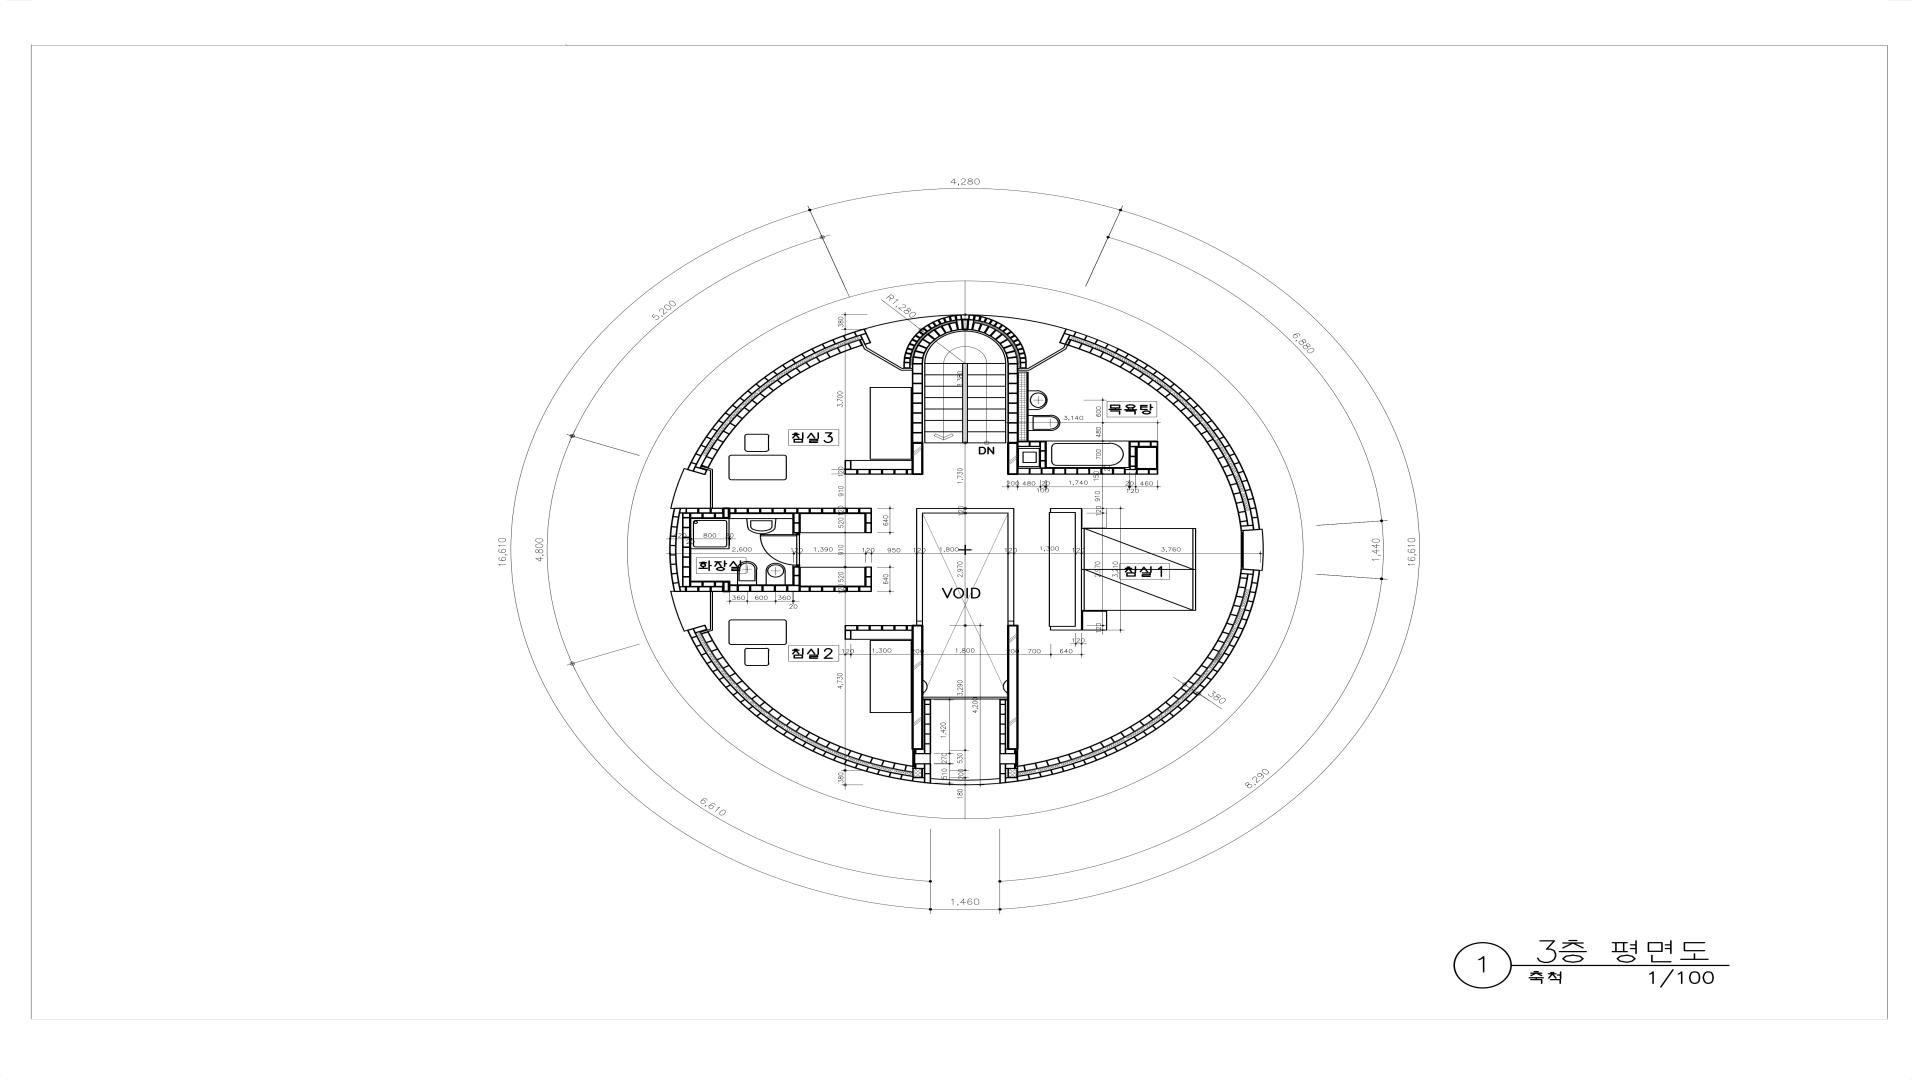door: (760, 533, 800, 567)
wall: (1000, 568, 1261, 783), (1059, 328, 1259, 531), (686, 625, 931, 783), (687, 328, 872, 475), (903, 314, 1027, 368), (911, 625, 923, 750), (1007, 625, 1018, 750), (670, 520, 691, 580), (911, 368, 923, 475), (1000, 700, 1018, 764), (913, 700, 931, 764), (1007, 368, 1018, 475), (1018, 467, 1138, 475), (731, 508, 872, 514), (1075, 513, 1083, 630), (916, 508, 923, 625), (1007, 513, 1014, 625), (731, 584, 800, 592), (671, 580, 713, 592), (671, 508, 713, 520), (923, 508, 1014, 513), (800, 585, 872, 592), (844, 625, 911, 632), (844, 469, 911, 475), (1129, 440, 1158, 448), (1039, 440, 1047, 467), (713, 580, 731, 592), (713, 508, 731, 520), (1050, 508, 1083, 513), (1129, 448, 1138, 467), (864, 567, 872, 585), (864, 514, 872, 533), (793, 514, 800, 533), (1018, 440, 1039, 447), (793, 567, 800, 584), (1138, 468, 1158, 475), (1050, 626, 1075, 630), (844, 460, 852, 469), (844, 632, 852, 640)
window: (862, 344, 902, 371), (1029, 345, 1067, 371), (1241, 530, 1265, 570), (931, 778, 1000, 786), (923, 696, 1007, 699), (708, 592, 713, 632), (708, 468, 713, 508), (1018, 368, 1029, 371), (902, 368, 913, 371)
